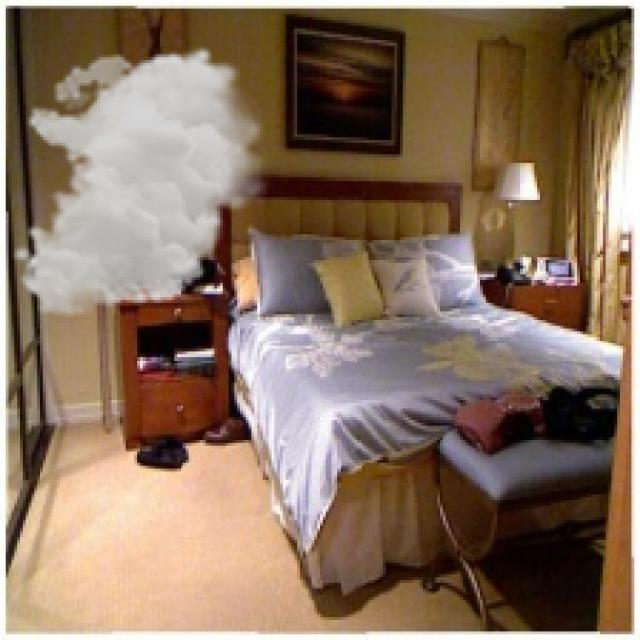Smoke: (12, 45, 274, 318)
